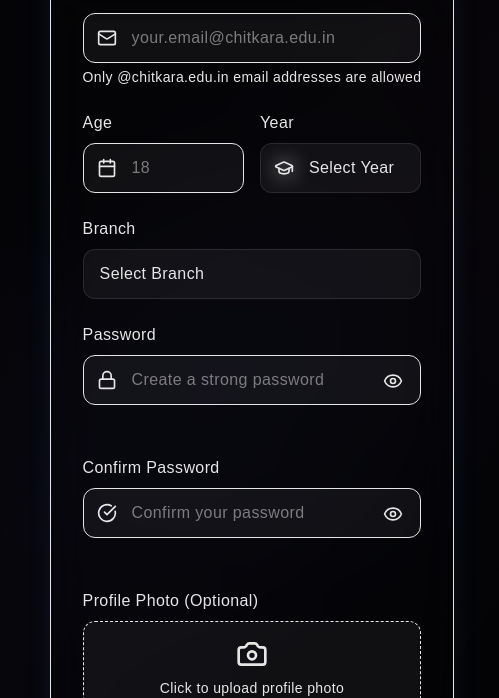
Test: Signup Component › validates password confirmation match
(page scrolled)
In the password field labelled "Password": [252, 380] box [83,355,422,405], type "password123"
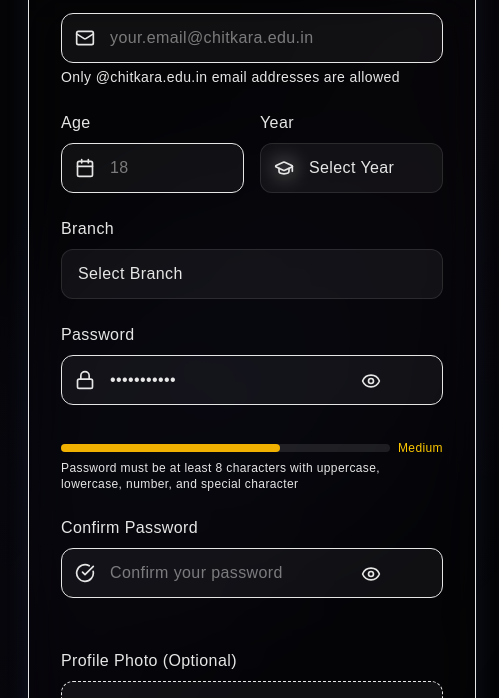
In the password field labelled "Confirm Password": [252, 573] box [61,548,443,598], type "different"
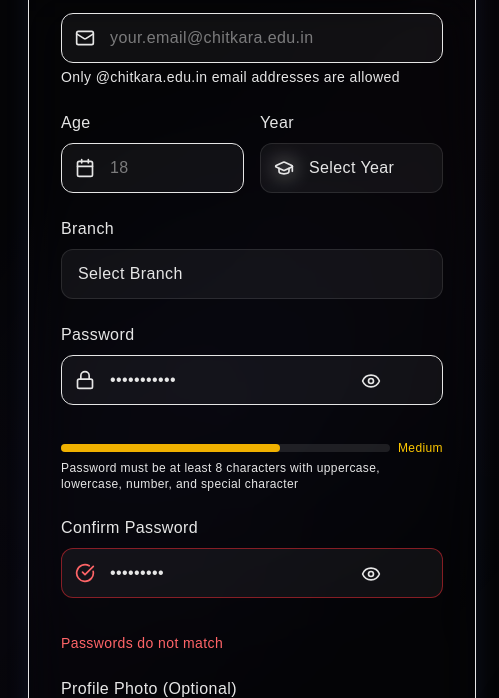
Expected: the text "Passwords do not match" is shown, [61,633,223,653]
